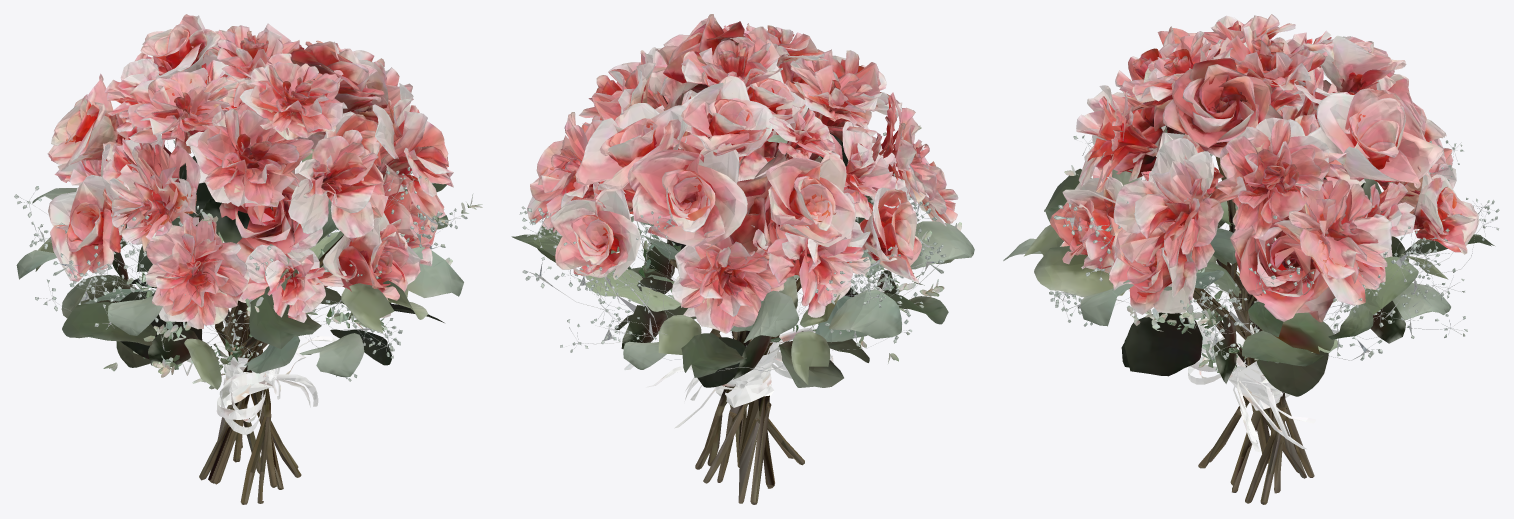
File: flower-3mb-transformed.glb
3 renders of one model, left to right at view 1: azimuth 30°, elevation 25°; view 2: azimuth 150°, elevation 25°; view 3: azimuth 270°, elevation 25°, orthographic. The views are drawn at different scales.
Visible parts, largest first — view 1: Petal_002_Petals2_0, Leaves_001_Leaves1_0, SmallPlants_001_SmallPlants3_0, Stems_Stems_0, Ribbons_001_Ribbons1_0; view 2: Petal_002_Petals2_0, Leaves_001_Leaves1_0, SmallPlants_001_SmallPlants3_0, Stems_Stems_0, Ribbons_001_Ribbons1_0; view 3: Petal_002_Petals2_0, Leaves_001_Leaves1_0, SmallPlants_001_SmallPlants3_0, Stems_Stems_0, Ribbons_001_Ribbons1_0.
Boxes of the visible parts, left/top/right/bottom form: Petal_002_Petals2_0: left=47, top=14, right=453, bottom=329; Leaves_001_Leaves1_0: left=16, top=149, right=463, bottom=389; SmallPlants_001_SmallPlants3_0: left=14, top=140, right=482, bottom=389; Stems_Stems_0: left=182, top=173, right=343, bottom=504; Ribbons_001_Ribbons1_0: left=215, top=310, right=348, bottom=434; Petal_002_Petals2_0: left=527, top=14, right=958, bottom=333; Leaves_001_Leaves1_0: left=511, top=133, right=974, bottom=387; SmallPlants_001_SmallPlants3_0: left=519, top=125, right=961, bottom=371; Stems_Stems_0: left=669, top=259, right=804, bottom=504; Ribbons_001_Ribbons1_0: left=624, top=327, right=834, bottom=428; Petal_002_Petals2_0: left=1050, top=14, right=1479, bottom=322; Leaves_001_Leaves1_0: left=1003, top=133, right=1494, bottom=396; SmallPlants_001_SmallPlants3_0: left=1049, top=91, right=1499, bottom=373; Stems_Stems_0: left=1193, top=156, right=1314, bottom=504; Ribbons_001_Ribbons1_0: left=1188, top=320, right=1315, bottom=452.
Bounding box in the file's own units: 53.73 × 57.93 × 57.45.
20 materials, 20 textured.
